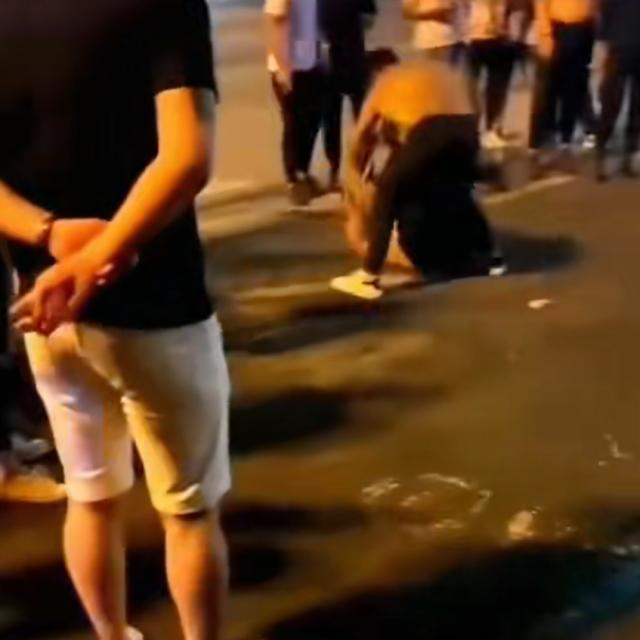fight: (318, 55, 490, 276)
nofight: (0, 1, 277, 640), (257, 0, 339, 212), (518, 0, 598, 183)
